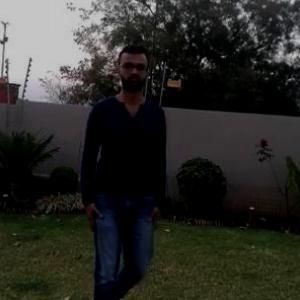follow: (84, 44, 176, 299)
